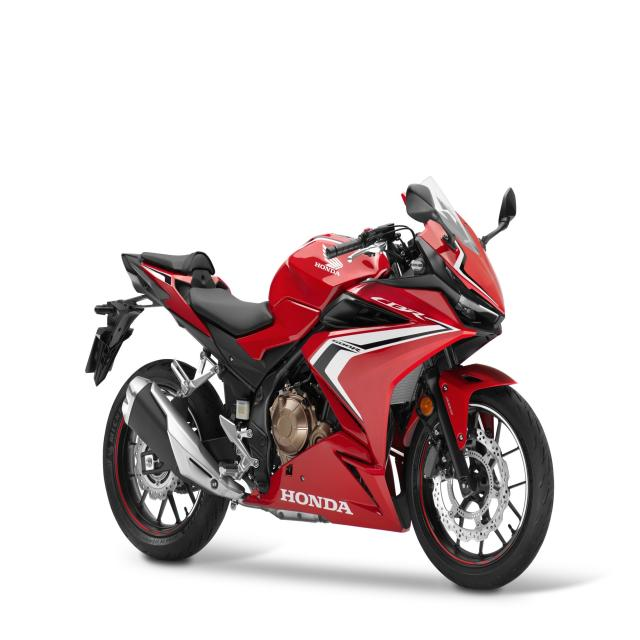Motorcycle: (87, 177, 555, 589)
